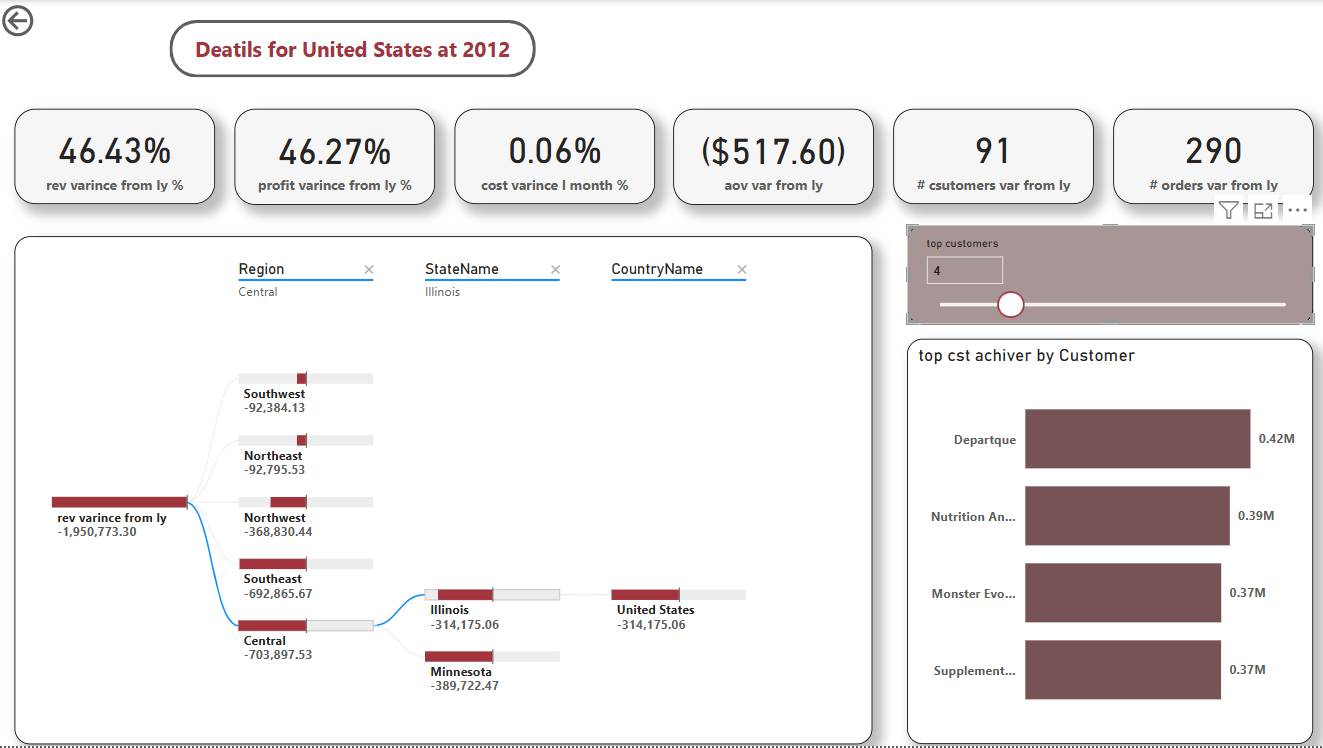

This screenshot's page, from the dashboard's own definition file:
{"tool":"powerbi","page":{"name":"location analysis","canvas":[1280,720],"ordinal":5},"visuals":[{"type":"card","fields":{"Values":["calculations.rev varince from ly %"]},"box":[17.4,105.4,193.5,91.8],"z":0},{"type":"card","fields":{"Values":["calculations.# csutomers var from ly"]},"box":[864.9,105.4,193.5,91.8],"z":1000},{"type":"card","fields":{"Values":["calculations.# orders var from ly"]},"box":[1076.8,105.4,193.5,91.8],"z":2000},{"type":"card","fields":{"Values":["calculations.profit varince from ly %"]},"box":[229.3,105.4,193.5,93],"z":3000},{"type":"card","fields":{"Values":["calculations.aov var from ly"]},"box":[653,105.4,193.5,93],"z":4000},{"type":"card","fields":{"Values":["calculations.cost varince l month %"]},"box":[441.1,105.4,193.5,91.8],"z":5000},{"type":"decompositionTreeVisual","fields":{"Analyze":["calculations.rev varince from ly"],"ExplainBy":["customers.Region","customers.StateName","customers.CountryName"]},"box":[17.4,227.9,828.2,490.7],"z":6000},{"type":"actionButton","box":[0,0,100,40],"z":7000},{"type":"slicer","fields":{"Values":["top customers.top customers"]},"box":[878,216.7,392.3,95.9],"z":8000},{"type":"barChart","fields":{"Category":["customers.Customer"],"Y":["calculations.top cst achiver"]},"box":[878,327.5,392.3,391.1],"z":9000},{"type":"actionButton","box":[166.5,19.3,353.5,55.5],"z":10000}]}

Visuals, with their boxes in screenshot pixels (x1, y1, x2, y2), scaled from the page's 1280x720 canvas onto the 1323x748 screenshot:
card - calculations.rev varince from ly %: 18/109/218/205
card - calculations.# csutomers var from ly: 894/109/1094/205
card - calculations.# orders var from ly: 1113/109/1313/205
card - calculations.profit varince from ly %: 237/109/437/206
card - calculations.aov var from ly: 675/109/875/206
card - calculations.cost varince l month %: 456/109/656/205
decompositionTreeVisual - calculations.rev varince from ly x customers.Region: 18/237/874/747
actionButton: 0/0/103/42
slicer - top customers.top customers: 907/225/1313/325
barChart - customers.Customer x calculations.top cst achiver: 907/340/1313/747
actionButton: 172/20/537/78
